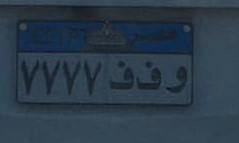7: (60, 56, 82, 97), (81, 57, 101, 100), (38, 55, 59, 95), (19, 55, 38, 98)
ف: (133, 59, 164, 92), (105, 60, 134, 92)
و: (166, 60, 191, 96), (167, 60, 191, 96)
